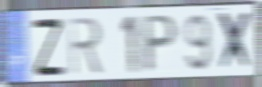1: (120, 13, 140, 76)
9: (183, 12, 212, 73)
P: (142, 12, 180, 75)
R: (67, 15, 104, 78)
X: (217, 9, 255, 73)
Z: (31, 16, 66, 79)
